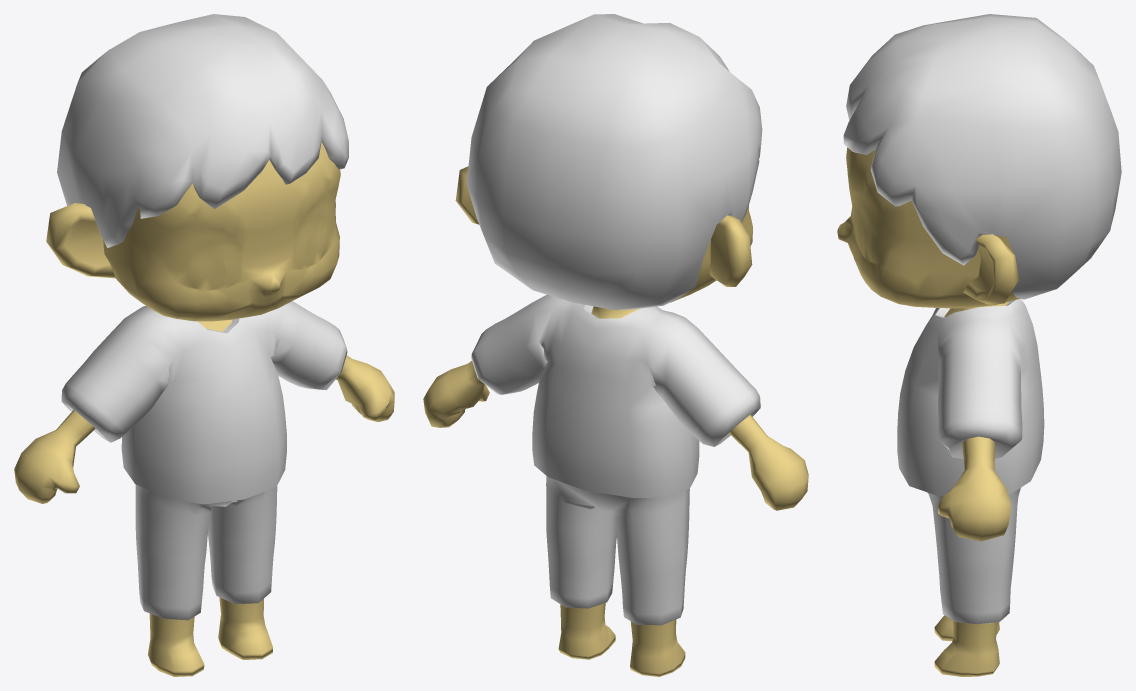
The model's file is ALL default.fbx.
The picture shows the model from 3 angles, left to right: view 1: azimuth 30°, elevation 25°; view 2: azimuth 150°, elevation 25°; view 3: azimuth 270°, elevation 25°; orthographic projection.
Visible parts, largest first — view 1: Body_4; view 2: Body_4; view 3: Body_4.
Part boxes in pixels (x1,y1,x2,y2): Body_4: [14, 14, 394, 676]; Body_4: [423, 14, 808, 676]; Body_4: [837, 14, 1121, 676].
Size of the model in its own units: 107 by 169 by 70.54.
